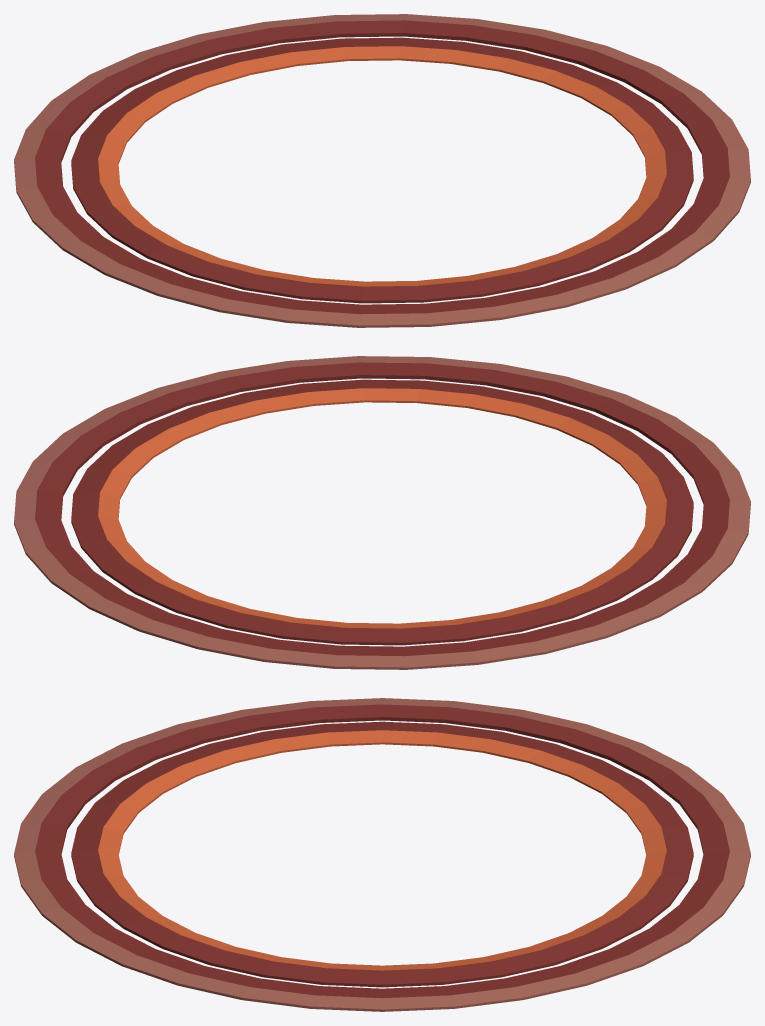
The model's file is Gas_Giant_05_Rings_Lod1.fbx.
3 renders of one model, top to bottom at view 1: azimuth 30°, elevation 25°; view 2: azimuth 150°, elevation 25°; view 3: azimuth 270°, elevation 25°, orthographic.
Visible parts, largest first — view 1: Gas_Giant_05_Rings_Lod1; view 2: Gas_Giant_05_Rings_Lod1; view 3: Gas_Giant_05_Rings_Lod1.
Boxes of the visible parts, <box> form: Gas_Giant_05_Rings_Lod1: <box>14,14,750,327</box>; Gas_Giant_05_Rings_Lod1: <box>14,356,750,669</box>; Gas_Giant_05_Rings_Lod1: <box>14,698,750,1011</box>.
Bounding box in the file's own units: 34876 × 432 × 34876.
